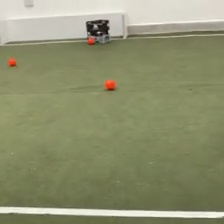ball: (103, 77, 117, 91), (7, 56, 17, 66), (87, 35, 96, 45)
goal: (1, 11, 128, 44)
robot: (85, 19, 112, 44)
